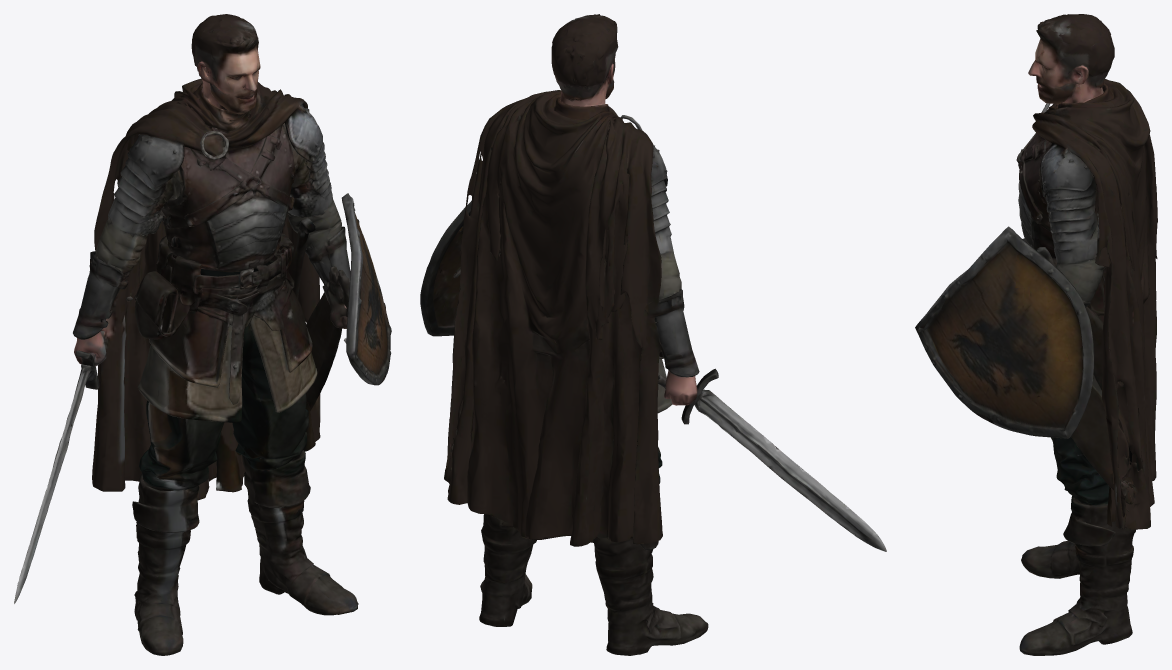
The model's file is knight_ai.glb.
3 views of the same model, side by side, from view 1: azimuth 30°, elevation 25°; view 2: azimuth 150°, elevation 25°; view 3: azimuth 270°, elevation 25° (orthographic). The views are drawn at different scales.
Size of the model in its own units: 1.3 by 1.8 by 0.6708.
1 material, 1 textured.
